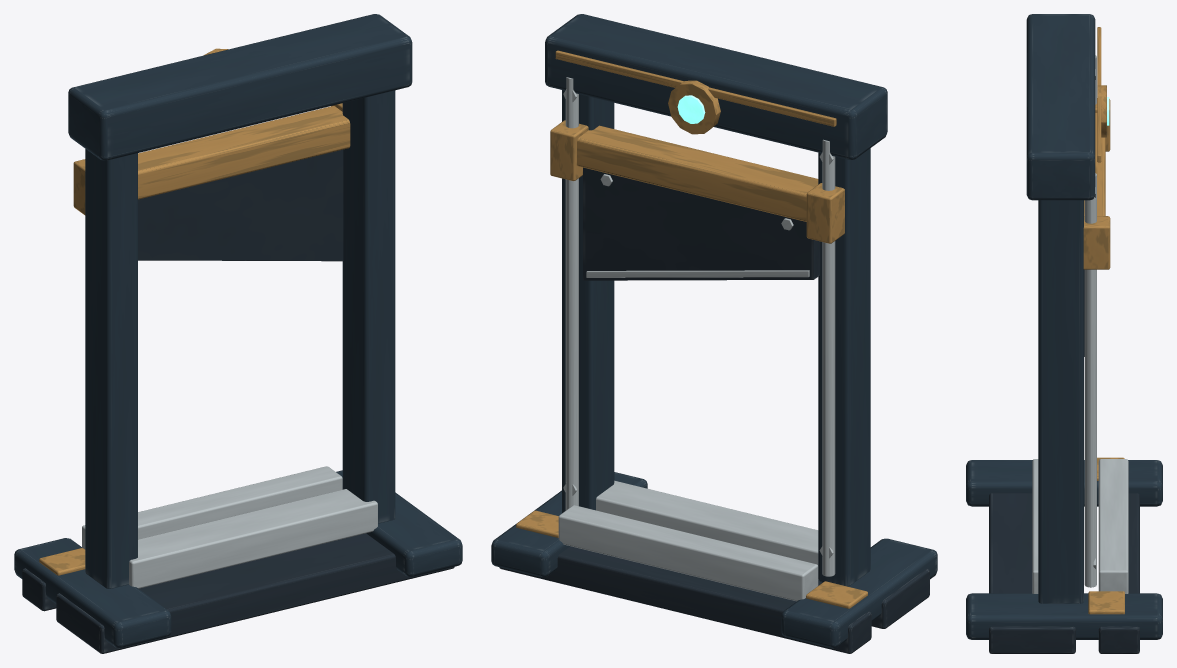
Rendered from guillotine.glb.
The picture shows the model from 3 angles, left to right: view 1: azimuth 30°, elevation 25°; view 2: azimuth 150°, elevation 25°; view 3: azimuth 270°, elevation 25°; orthographic projection. The views are drawn at different scales.
Parts seen in each view (by area): view 1: v2_guillotine__crown, v2_guillotine__column_neg1, v2_guillotine__column_1, v2_guillotine__falling_blade, v2_guillotine__ground_rear, v2_guillotine__anvil_rear, v2_guillotine__carriage, v2_guillotine__foot_neg1, v2_guillotine__anvil_front, v2_guillotine__foot_1, v2_guillotine__foot_trim_neg1, v2_guillotine__ground_front (+1 smaller); view 2: v2_guillotine__crown, v2_guillotine__falling_blade, v2_guillotine__column_neg1, v2_guillotine__column_1, v2_guillotine__anvil_front, v2_guillotine__carriage, v2_guillotine__ground_front, v2_guillotine__anvil_rear, v2_guillotine__foot_neg1, v2_guillotine__guide_neg1, v2_guillotine__guide_1, v2_guillotine__foot_1 (+8 smaller); view 3: v2_guillotine__column_1, v2_guillotine__crown, v2_guillotine__ground_rear, v2_guillotine__foot_1, v2_guillotine__guide_1, v2_guillotine__foot_neg1, v2_guillotine__anvil_front, v2_guillotine__ground_front, v2_guillotine__runner_1, v2_guillotine__anvil_rear, v2_guillotine__foot_trim_1, v2_guillotine__carriage (+2 smaller).
Part boxes in pixels (x1=…): v2_guillotine__crown: x1=68, y1=14, x2=412, y2=160; v2_guillotine__column_neg1: x1=85, y1=149, x2=137, y2=588; v2_guillotine__column_1: x1=342, y1=90, x2=395, y2=523; v2_guillotine__falling_blade: x1=138, y1=149, x2=343, y2=261; v2_guillotine__ground_rear: x1=56, y1=533, x2=454, y2=653; v2_guillotine__anvil_rear: x1=129, y1=489, x2=377, y2=588; v2_guillotine__carriage: x1=138, y1=106, x2=350, y2=199; v2_guillotine__foot_neg1: x1=14, y1=538, x2=171, y2=647; v2_guillotine__anvil_front: x1=82, y1=466, x2=342, y2=549; v2_guillotine__foot_1: x1=336, y1=470, x2=462, y2=576; v2_guillotine__foot_trim_neg1: x1=39, y1=548, x2=85, y2=575; v2_guillotine__ground_front: x1=22, y1=568, x2=56, y2=611; v2_guillotine__crown: x1=545, y1=14, x2=887, y2=159; v2_guillotine__falling_blade: x1=583, y1=167, x2=819, y2=280; v2_guillotine__column_neg1: x1=818, y1=148, x2=870, y2=586; v2_guillotine__column_1: x1=562, y1=90, x2=614, y2=512; v2_guillotine__anvil_front: x1=558, y1=505, x2=818, y2=601; v2_guillotine__carriage: x1=577, y1=125, x2=818, y2=221; v2_guillotine__ground_front: x1=499, y1=546, x2=871, y2=653; v2_guillotine__anvil_rear: x1=596, y1=480, x2=818, y2=565; v2_guillotine__foot_neg1: x1=781, y1=538, x2=937, y2=648; v2_guillotine__guide_neg1: x1=822, y1=139, x2=835, y2=576; v2_guillotine__guide_1: x1=565, y1=77, x2=578, y2=510; v2_guillotine__foot_1: x1=491, y1=472, x2=647, y2=577; v2_guillotine__column_1: x1=1038, y1=200, x2=1083, y2=603; v2_guillotine__crown: x1=1026, y1=14, x2=1095, y2=200; v2_guillotine__ground_rear: x1=989, y1=493, x2=1075, y2=653; v2_guillotine__foot_1: x1=966, y1=593, x2=1162, y2=639; v2_guillotine__guide_1: x1=1084, y1=173, x2=1096, y2=587; v2_guillotine__foot_neg1: x1=966, y1=460, x2=1162, y2=506; v2_guillotine__anvil_front: x1=1098, y1=459, x2=1128, y2=593; v2_guillotine__ground_front: x1=1098, y1=493, x2=1139, y2=653; v2_guillotine__runner_1: x1=1083, y1=216, x2=1110, y2=269; v2_guillotine__anvil_rear: x1=1032, y1=459, x2=1038, y2=593; v2_guillotine__foot_trim_1: x1=1088, y1=591, x2=1124, y2=614; v2_guillotine__carriage: x1=1084, y1=113, x2=1105, y2=215.
Size of the model in its own units: 1.68 by 2.37 by 0.86.
Materials: 2 (2 with a texture image).
